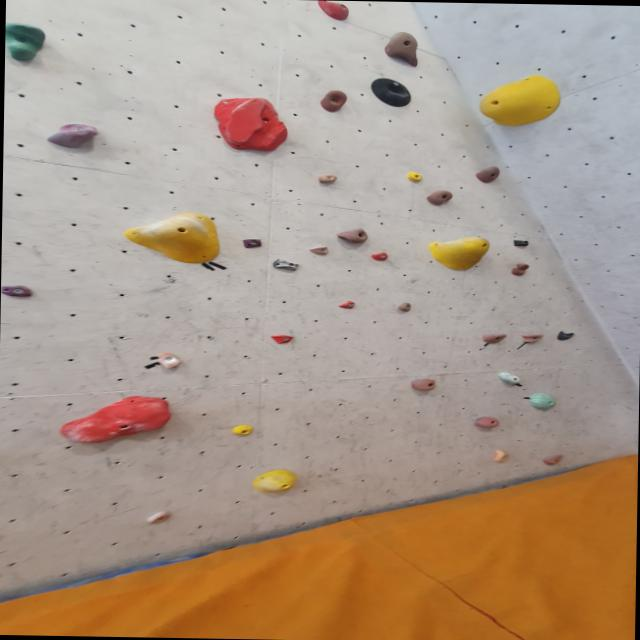Crimp: (1, 283, 36, 298), (144, 510, 173, 526), (268, 334, 296, 346), (240, 238, 265, 251), (539, 454, 564, 466), (308, 245, 331, 258), (402, 172, 424, 184), (336, 301, 358, 312), (366, 252, 388, 262)
Jug: (4, 22, 48, 65), (379, 30, 419, 69), (318, 90, 348, 115), (150, 350, 182, 370), (336, 228, 371, 246), (472, 165, 501, 186), (424, 187, 454, 205), (472, 415, 503, 430), (408, 379, 439, 393), (479, 331, 508, 344), (520, 331, 545, 344), (509, 264, 532, 278), (394, 302, 412, 313)
Pinch: (44, 125, 100, 152), (310, 0, 350, 22), (488, 368, 526, 386), (270, 256, 302, 272), (490, 449, 510, 465), (314, 173, 340, 184), (511, 239, 532, 249)
Pocket: (367, 75, 413, 108)
Sloper: (60, 394, 180, 447), (120, 210, 226, 267), (474, 72, 566, 134), (210, 97, 292, 154), (426, 235, 493, 274), (251, 466, 298, 494), (526, 392, 557, 410)
